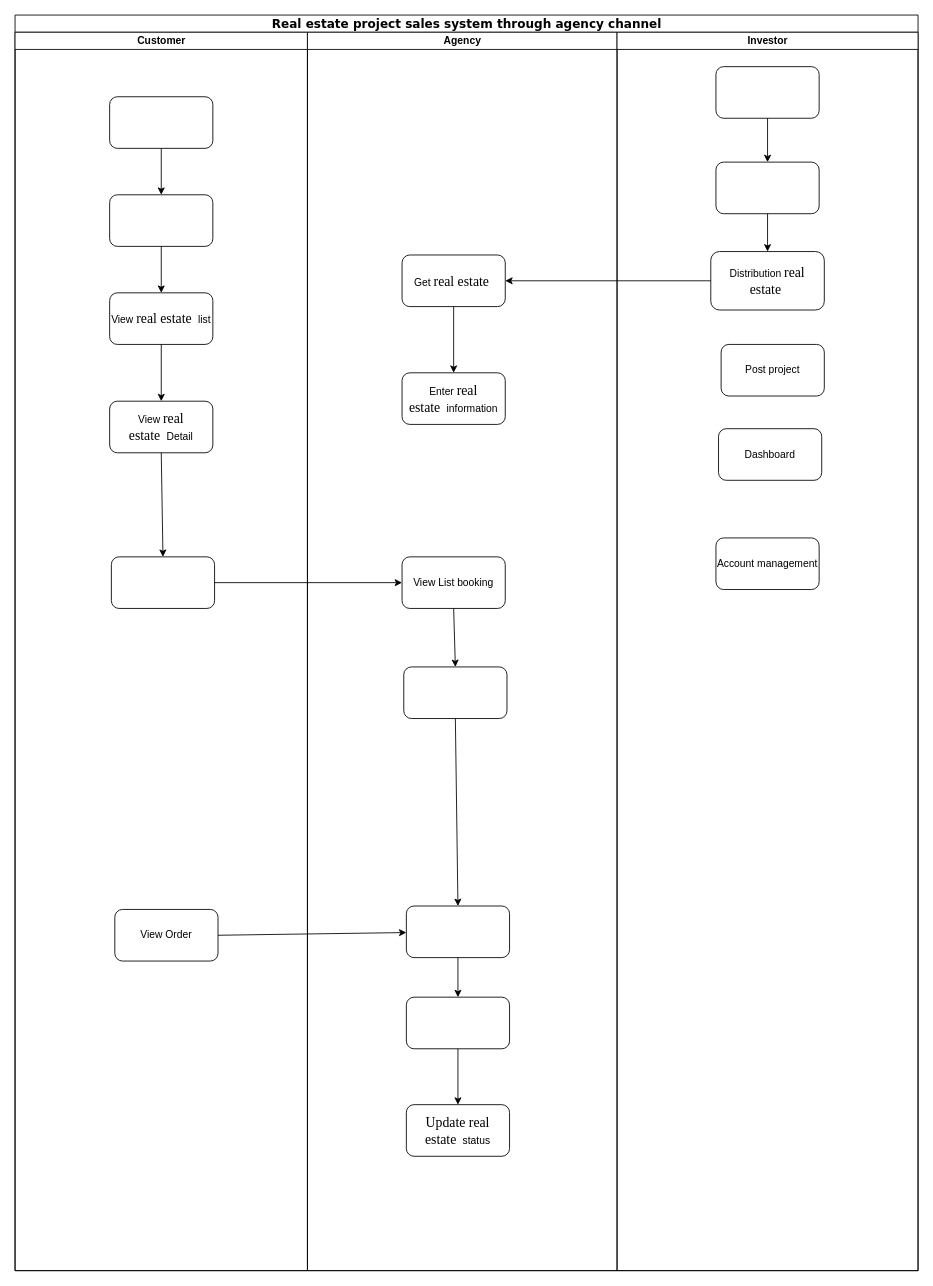
This 933x1286 diagram has some shape labels left out. Here are the shapes that lost their labels. From the top down, the centre of each, then its label:
At point (767, 92): "Create project".
At point (161, 122): "View Project".
At point (767, 187): "Create Building".
At point (161, 220): "View Building list".
At point (163, 582): "Booking".
At point (455, 692): "Choose Booking by Priority method".
At point (457, 931): "Create Order".
At point (457, 1022): "Complete Order".
